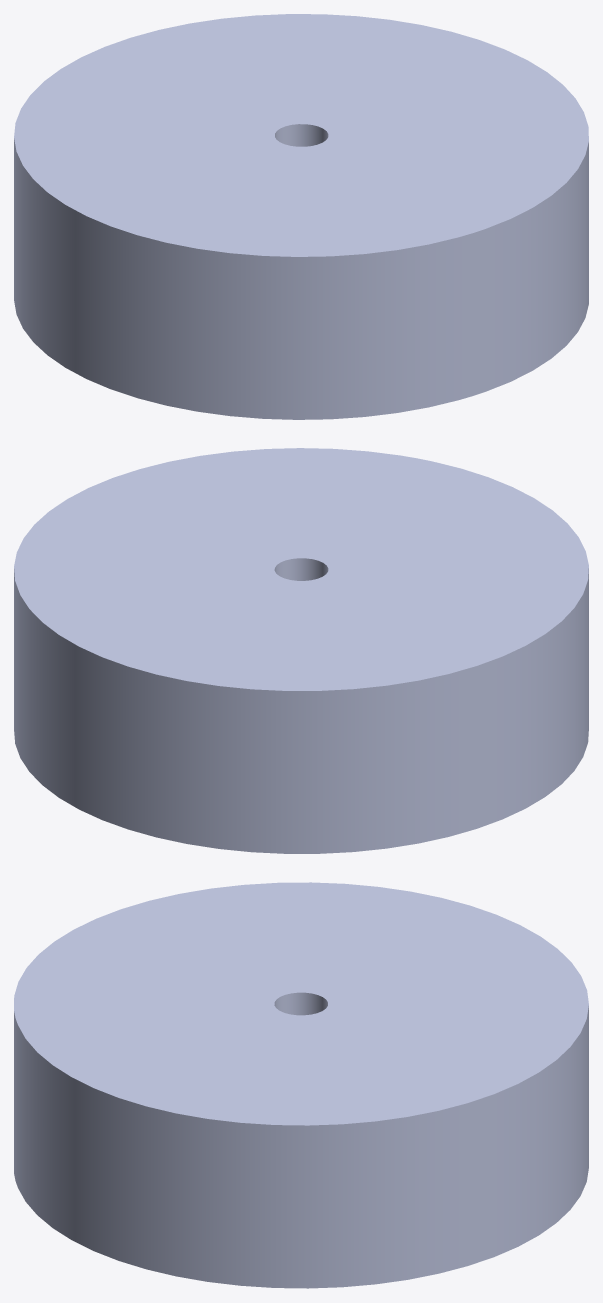
File: wheel_1_2.dae
The picture shows the model from 3 angles, top to bottom: view 1: azimuth 30°, elevation 25°; view 2: azimuth 150°, elevation 25°; view 3: azimuth 270°, elevation 25°; orthographic projection.
Visible parts, largest first — view 1: node0; view 2: node0; view 3: node0.
Part boxes in pixels (x1,y1,x2,y2): node0: [14, 14, 588, 419]; node0: [14, 448, 588, 853]; node0: [14, 882, 588, 1288].
Bounding box in the file's own units: 0.1599 × 0.05 × 0.1599.
